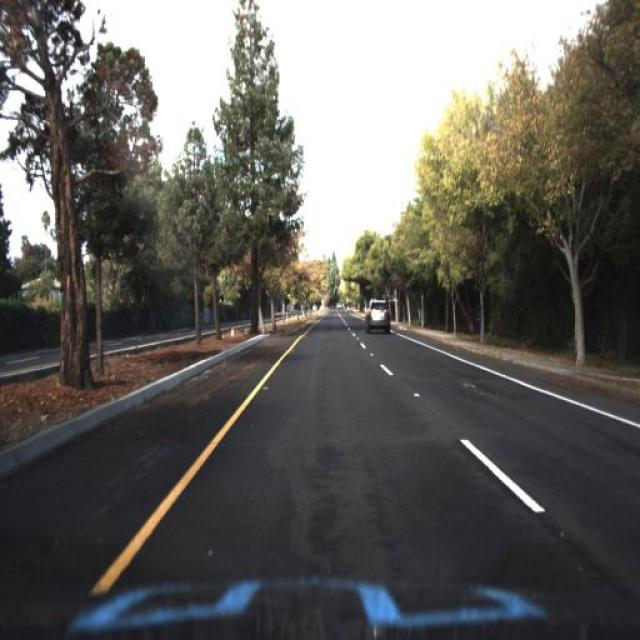car: (364, 295, 392, 334)
